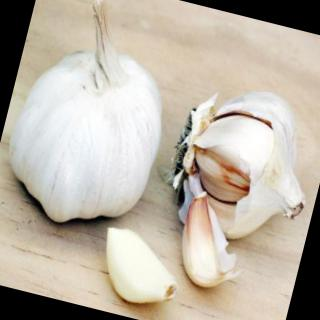Bawang Putih: (1, 33, 179, 242), (174, 76, 320, 256), (170, 188, 251, 296), (92, 225, 189, 314)
